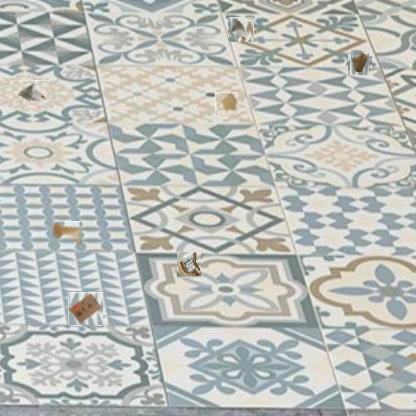dirty: (68, 292, 102, 325), (17, 80, 49, 105), (228, 17, 254, 42), (177, 252, 201, 278), (349, 53, 371, 74)
liquid: (52, 221, 82, 246), (215, 92, 238, 115)
